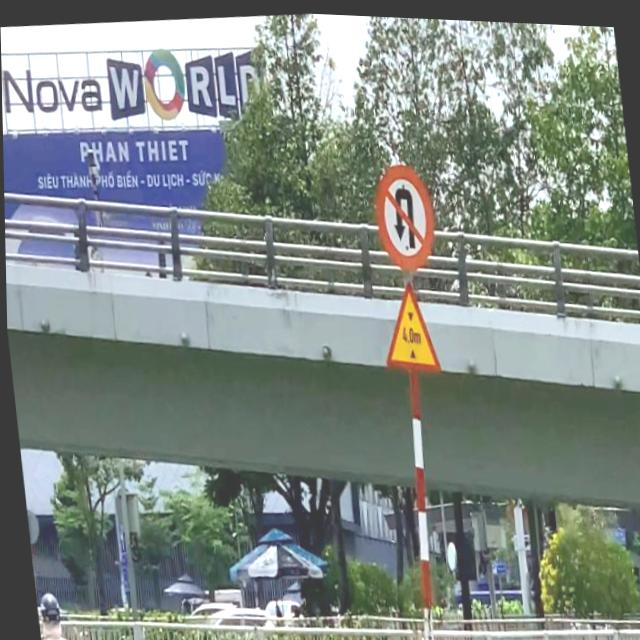Cam quay dau xe: (366, 152, 439, 272)
Chieu cao an toan: (374, 272, 445, 384)
